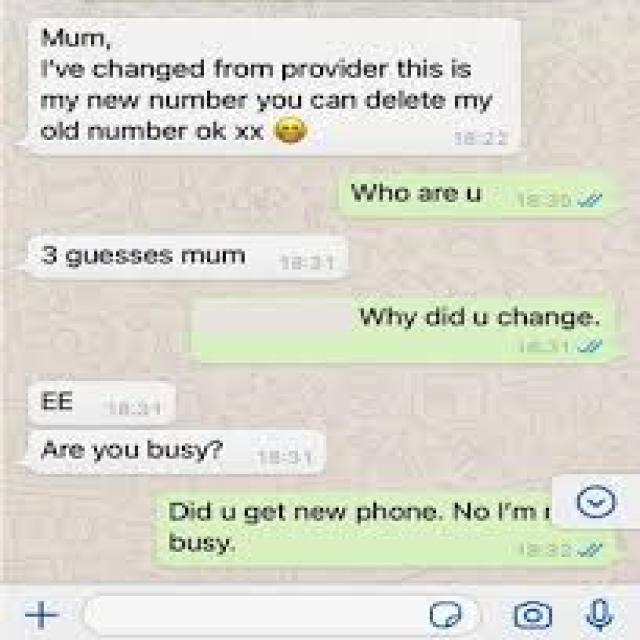scam: (30, 18, 511, 158), (26, 230, 262, 270), (45, 437, 234, 465), (37, 378, 117, 428)
